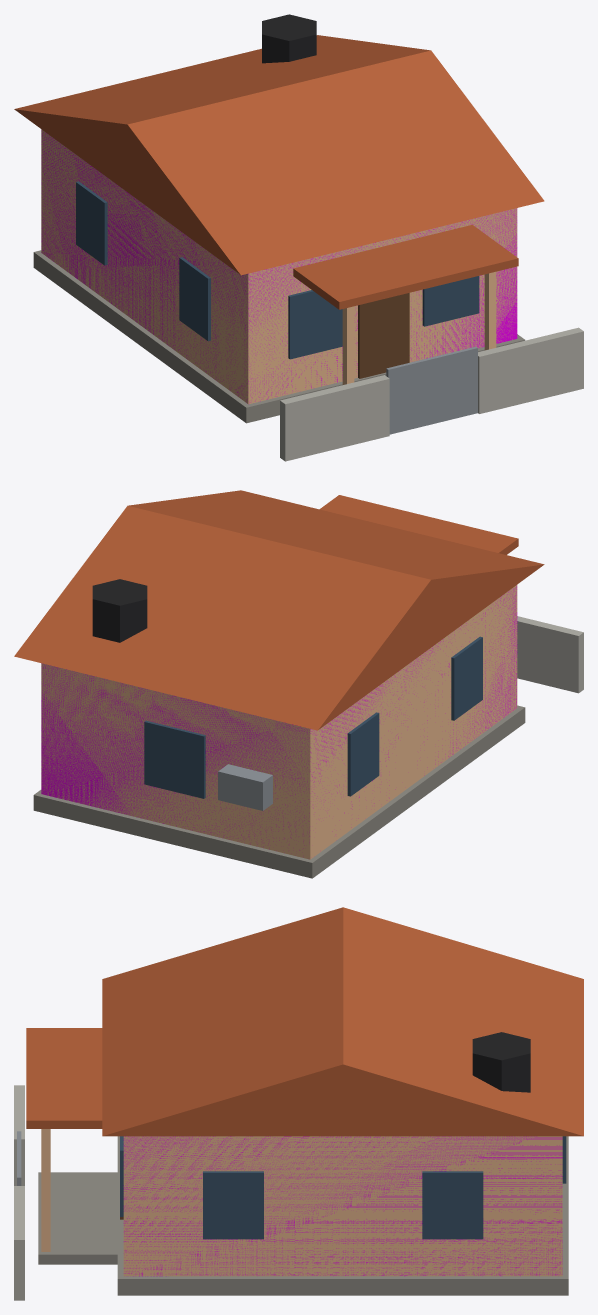
Rendered from House_1S_03.glb.
3 views of the same model, one above another, from view 1: azimuth 30°, elevation 25°; view 2: azimuth 150°, elevation 25°; view 3: azimuth 270°, elevation 25° (orthographic). The views are drawn at different scales.
Parts seen in each view (by area): view 1: House_1S_03, House_1S_03_COL; view 2: House_1S_03, House_1S_03_COL; view 3: House_1S_03, House_1S_03_COL.
Boxes of the visible parts, box(x1,y1,x2,y2) form: House_1S_03: box(14, 14, 583, 461); House_1S_03_COL: box(41, 130, 517, 402); House_1S_03: box(14, 490, 583, 878); House_1S_03_COL: box(41, 585, 517, 850); House_1S_03: box(14, 907, 583, 1300); House_1S_03_COL: box(123, 1136, 562, 1276).
Size of the model in its own units: 6.1 by 4.3 by 9.35.
